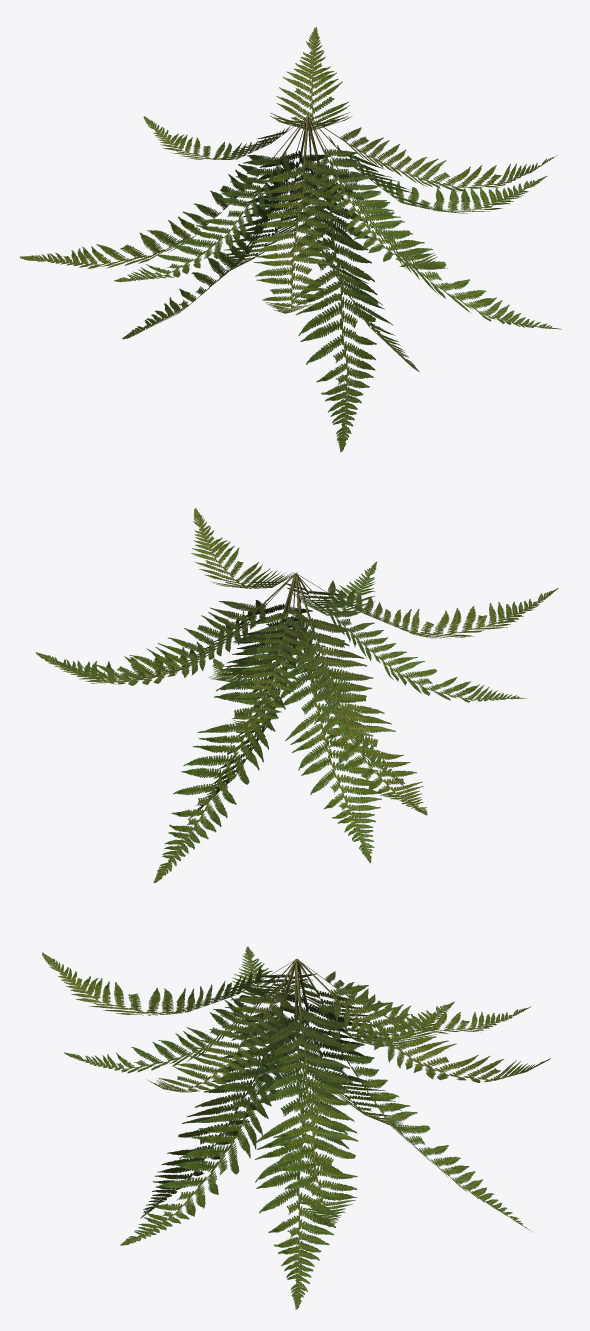
The model's file is Fern.fbx.
3 views of the same model, one above another, from view 1: azimuth 30°, elevation 25°; view 2: azimuth 150°, elevation 25°; view 3: azimuth 270°, elevation 25° (orthographic). The views are drawn at different scales.
Parts seen in each view (by area): view 1: Fern; view 2: Fern; view 3: Fern.
Boxes of the visible parts, <box> form: Fern: <box>20,27,561,452</box>; Fern: <box>36,508,558,882</box>; Fern: <box>42,946,550,1309</box>.
Bounding box in the file's own units: 11.49 × 6.68 × 10.78.
